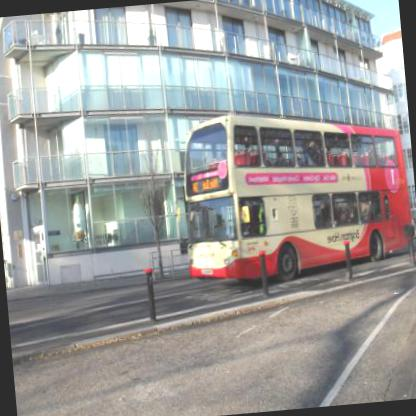bus: (175, 96, 415, 292)
